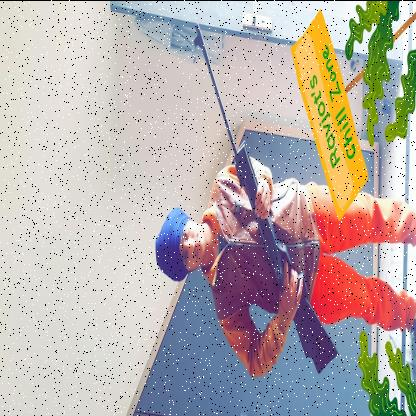rifle: (192, 19, 340, 377)
